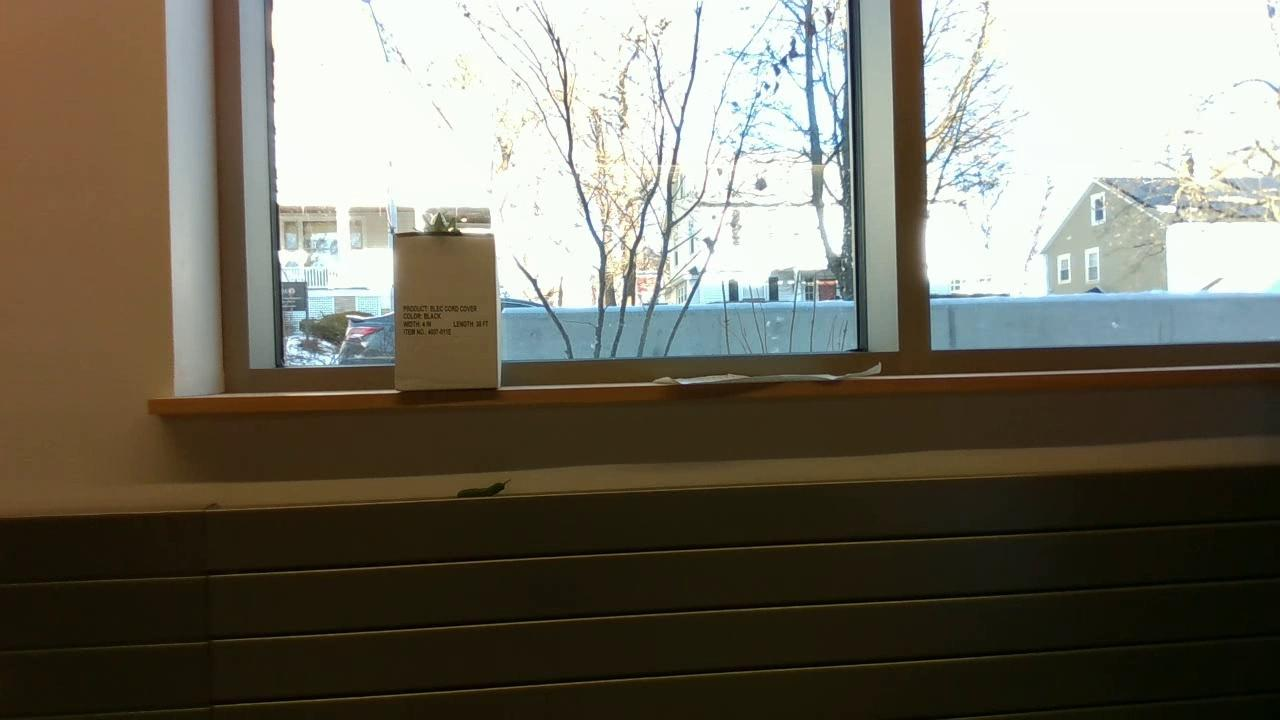grasshopper: (419, 213, 459, 231)
